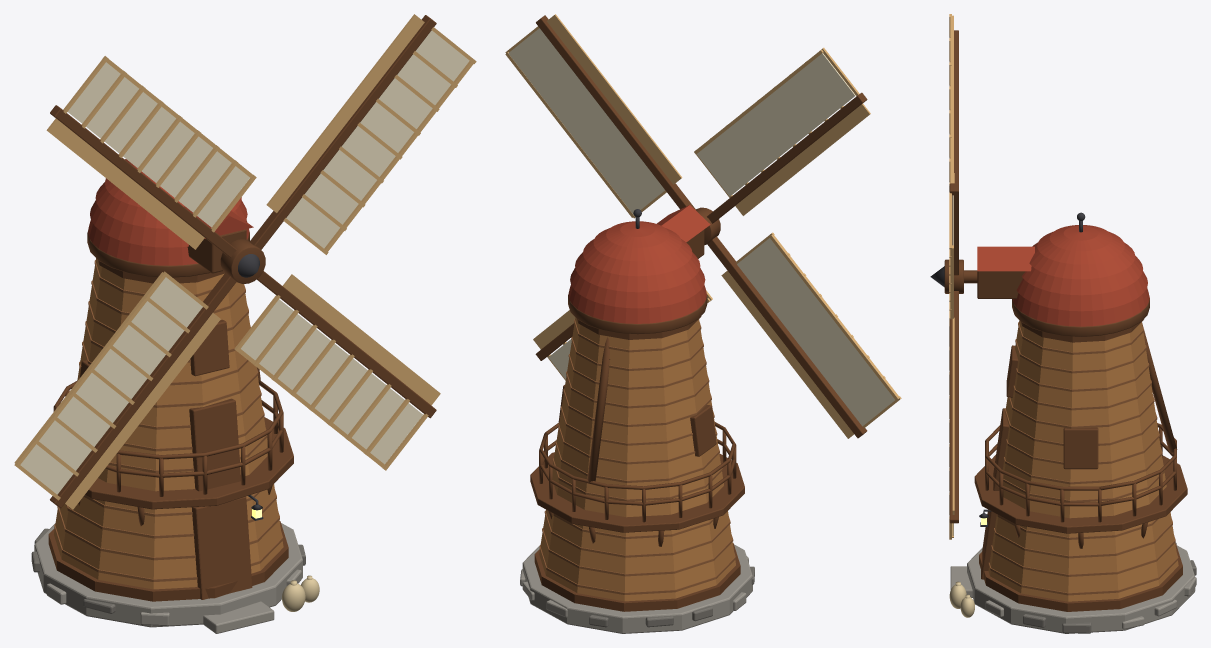
Rendered from gen_windmill.mobile-high.glb.
The picture shows the model from 3 angles, left to right: view 1: azimuth 30°, elevation 25°; view 2: azimuth 150°, elevation 25°; view 3: azimuth 270°, elevation 25°; orthographic projection. The views are drawn at different scales.
Visible parts, largest first — view 1: windmill_sails, gen_windmill; view 2: gen_windmill, windmill_sails; view 3: gen_windmill, windmill_sails.
Part boxes in pixels (bbox=[...]): windmill_sails: bbox=[14, 14, 476, 509]; gen_windmill: bbox=[31, 159, 319, 633]; gen_windmill: bbox=[520, 205, 754, 633]; windmill_sails: bbox=[505, 14, 901, 438]; gen_windmill: bbox=[949, 212, 1196, 633]; windmill_sails: bbox=[930, 14, 977, 539].
Bounding box in the file's own units: 11.78 × 14.79 × 6.95.
1 material, 1 textured.
